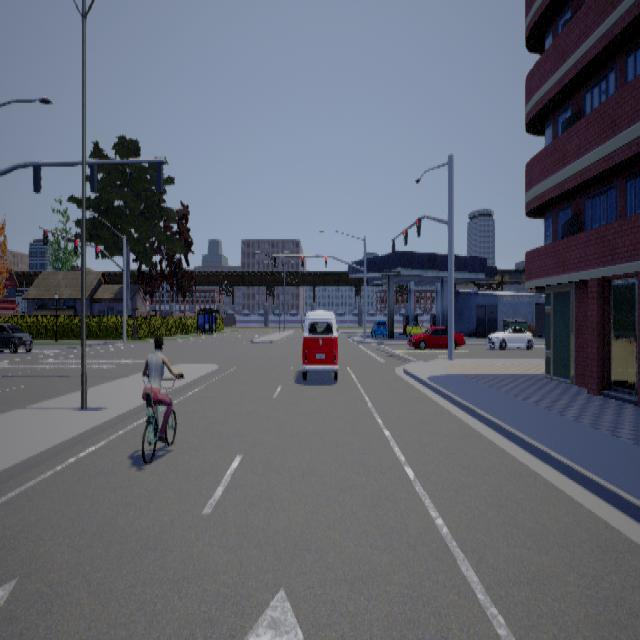bike: (141, 335, 184, 463)
red_light: (42, 228, 48, 245), (415, 216, 420, 236), (402, 228, 407, 245), (94, 244, 99, 258), (73, 238, 78, 252), (300, 254, 303, 266), (324, 254, 326, 266)
traffic_light: (390, 237, 394, 251), (273, 254, 275, 266)
vehicle: (301, 308, 338, 379), (404, 320, 447, 349), (485, 325, 533, 349), (0, 322, 32, 352)
